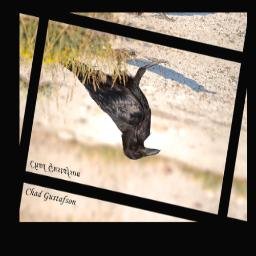Crow: (43, 35, 175, 166)
